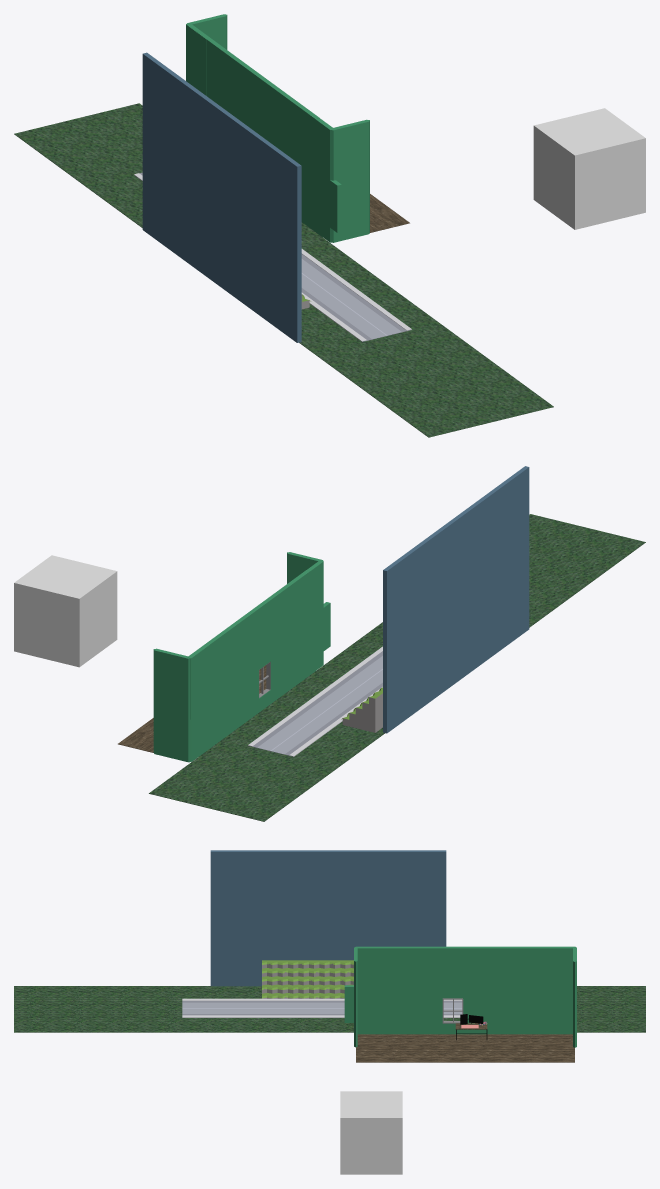
File: room.glb
The picture shows the model from 3 angles, top to bottom: view 1: azimuth 30°, elevation 25°; view 2: azimuth 150°, elevation 25°; view 3: azimuth 270°, elevation 25°; orthographic projection. The views are drawn at different scales.
Visible parts, largest first — view 1: aaaa, Cube; view 2: aaaa, Cube; view 3: aaaa, Cube.
Boxes of the visible parts, box(x1,y1,x2,y2) form: aaaa: box(14, 14, 553, 437); Cube: box(533, 108, 645, 229); aaaa: box(118, 466, 645, 821); Cube: box(14, 555, 117, 667); aaaa: box(14, 850, 645, 1062); Cube: box(340, 1091, 402, 1174).
Size of the model in its own units: 12.19 by 5.74 by 20.19.
19 materials, 3 textured.
